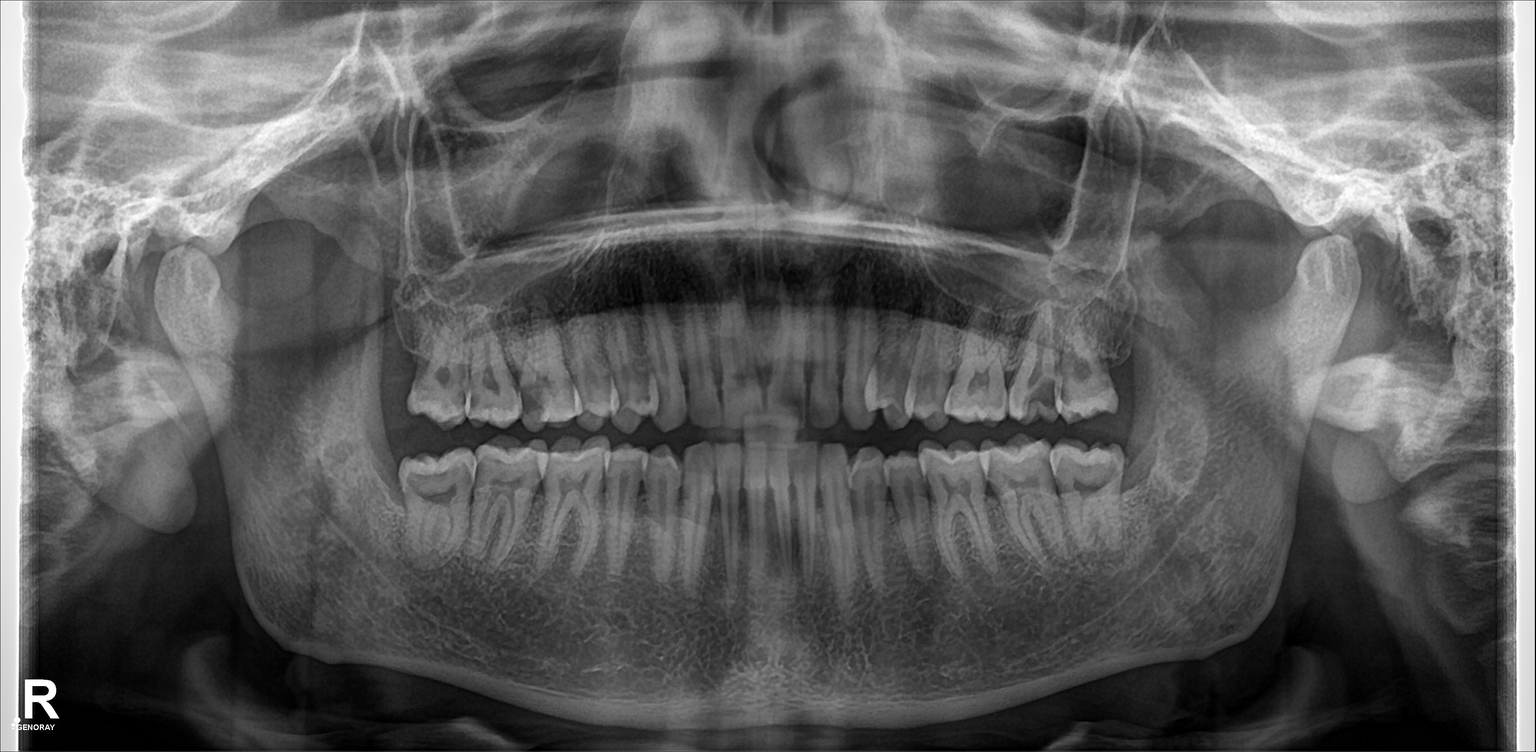Dental Caries: (1028, 369, 1061, 416)
Missing Tooth: (374, 307, 416, 414)
